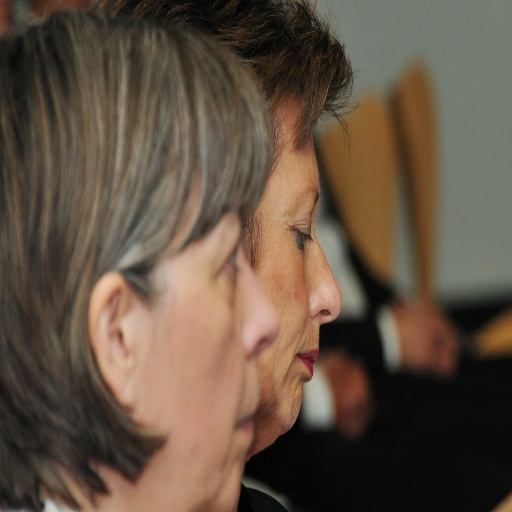hand: (381, 276, 462, 390), (319, 354, 370, 434)
